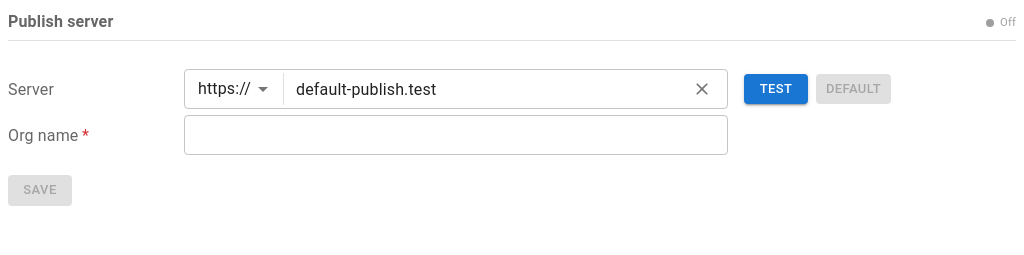
PublishSettings › Default server › should test the default server shown in the field
Click the button with aria-label "Test publish server".
click(776, 89)  # box 744,74 -> 808,104
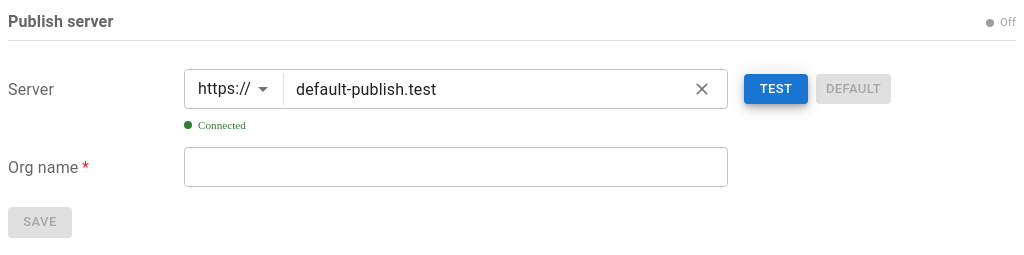
expect the text "Connected" is shown: met, box 184,119 -> 246,131
